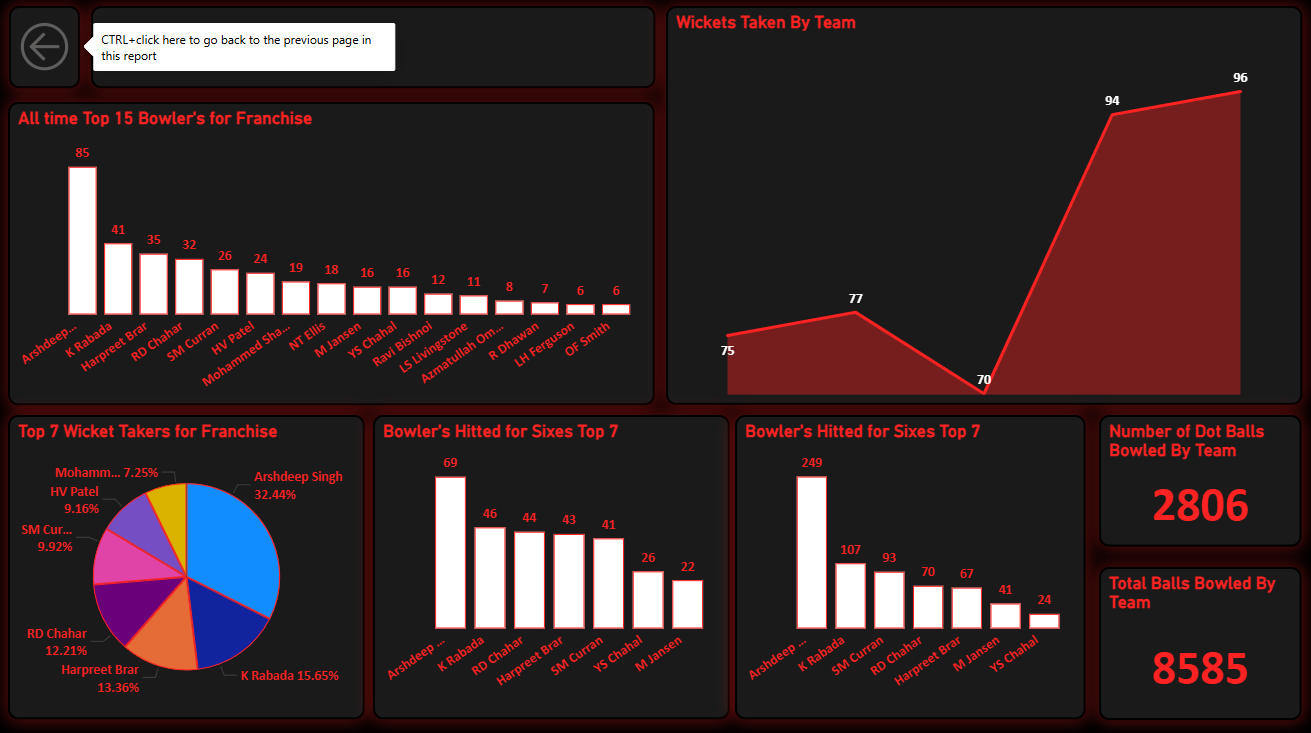

Layout of this report page (visuals, bound fields, positions):
{"tool":"powerbi","page":{"name":"Team Bowling","canvas":[1280,720],"ordinal":2},"visuals":[{"type":"actionButton","box":[11.7,7.8,69.1,79.8],"z":0},{"type":"multiRowCard","title":"TEAM SELECTED","fields":{"Values":["ipl_sorted_deliveries_data.bowling_team"]},"box":[91.4,7.8,548.6,79.8],"z":1},{"type":"clusteredColumnChart","title":"All time Top 15 Bowler''s for Franchise","fields":{"Category":["ipl_sorted_deliveries_data.bowler"],"Y":["Sum(ipl_sorted_deliveries_data.is_wicket)"]},"box":[10.7,101.2,629.3,294.7],"z":2},{"type":"areaChart","title":"Wickets Taken By Team","fields":{"Category":["ipl_sorted_deliveries_data.bowling_team","ipl_sorted_deliveries_data.date.Variation.Date Hierarchy.Year"],"Y":["Sum(ipl_sorted_deliveries_data.is_wicket)"]},"box":[650.7,7.8,618.6,388.1],"z":3},{"type":"pieChart","title":"Top 7 Wicket Takers for Franchise","fields":{"Category":["ipl_sorted_deliveries_data.bowler"],"Y":["Sum(ipl_sorted_deliveries_data.is_wicket)"]},"box":[10.7,405.6,347.2,295.7],"z":4},{"type":"clusteredColumnChart","title":"Bowler''s Hitted for Sixes Top 7","fields":{"Y":["ipl_sorted_deliveries_data.Sixes Conceded by Bowler"],"Category":["ipl_sorted_deliveries_data.bowler"]},"box":[365.7,405.6,347.2,295.7],"z":5},{"type":"clusteredColumnChart","title":"Bowler''s Hitted for Sixes Top 7","fields":{"Category":["ipl_sorted_deliveries_data.bowler"],"Y":["ipl_sorted_deliveries_data.Fours Conceded by Bowler"]},"box":[717.8,405.6,341.4,295.7],"z":6},{"type":"card","title":"Number of Dot Balls Bowled By Team","fields":{"Values":["ipl_sorted_deliveries_data.Total Dot Balls Faced by Team"]},"box":[1071.9,405.6,197.4,128.4],"z":7},{"type":"card","title":"Total Balls Bowled By Team","fields":{"Values":["ipl_sorted_deliveries_data.Total Balls Bowled by Bowling Team"]},"box":[1071.9,553.4,197.4,148.8],"z":8}]}

Visuals, with their boxes in screenshot pixels (x1, y1, x2, y2), scaled from the page's 1280x720 canvas onto the 1311x733 screenshot:
actionButton: (12,8,83,89)
"TEAM SELECTED" multiRowCard: (94,8,656,89)
"All time Top 15 Bowler''s for Franchise" clusteredColumnChart: (11,103,656,403)
"Wickets Taken By Team" areaChart: (666,8,1300,403)
"Top 7 Wicket Takers for Franchise" pieChart: (11,413,367,714)
"Bowler''s Hitted for Sixes Top 7" clusteredColumnChart: (375,413,730,714)
"Bowler''s Hitted for Sixes Top 7" clusteredColumnChart: (735,413,1085,714)
"Number of Dot Balls Bowled By Team" card: (1098,413,1300,544)
"Total Balls Bowled By Team" card: (1098,563,1300,715)
